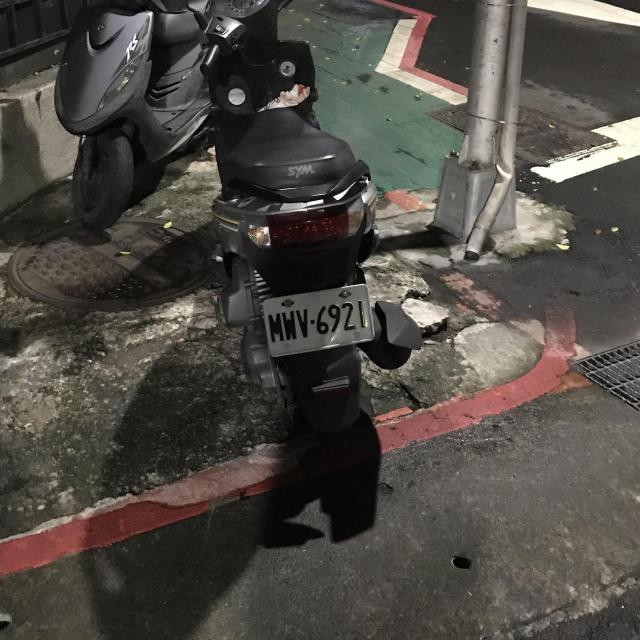W: (258, 278, 380, 358)
